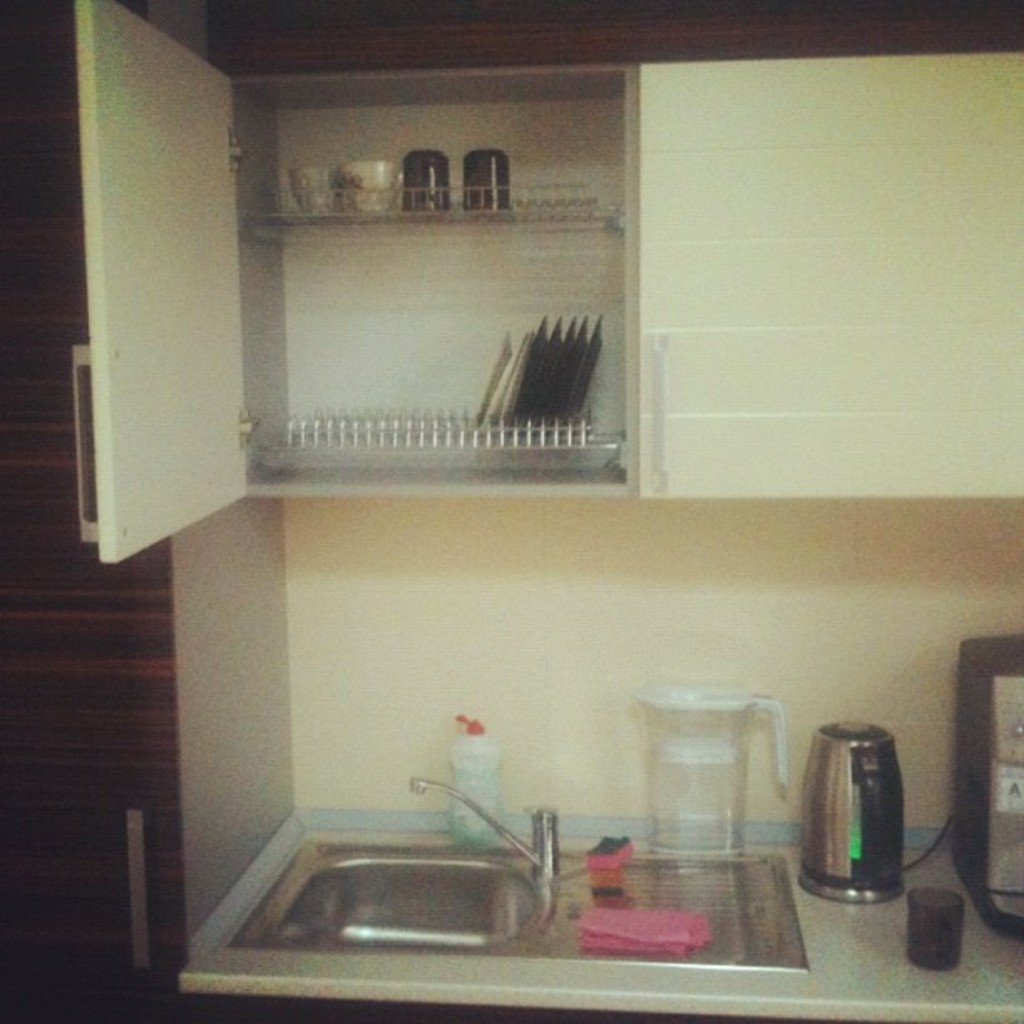Cabinetry: (64, 0, 1022, 569), (0, 2, 194, 1022)
